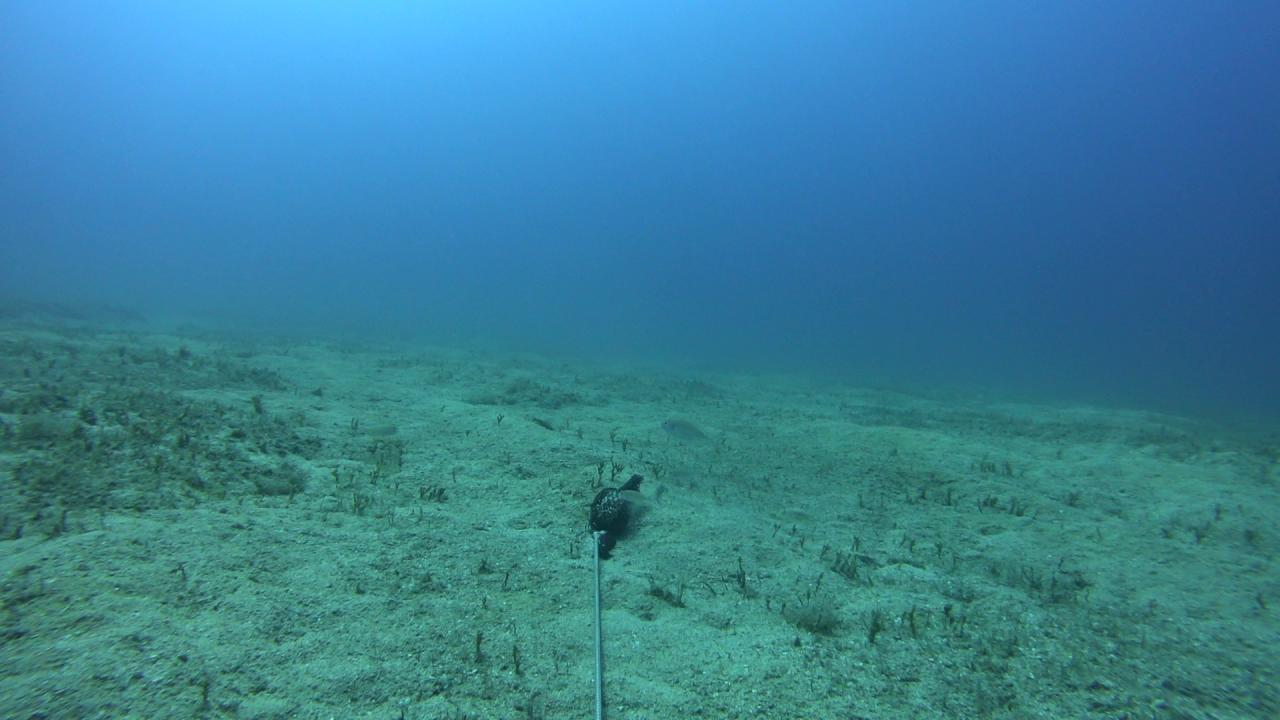pagellus: (659, 416, 724, 456), (617, 489, 653, 507)
